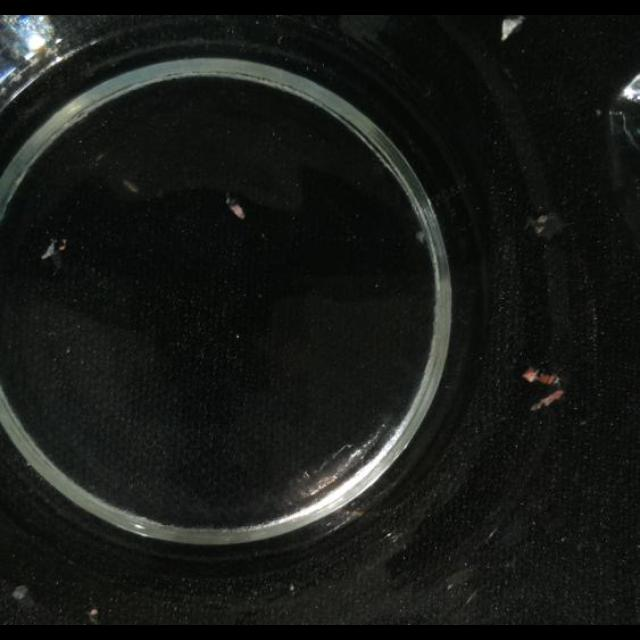Fibre: (41, 238, 68, 264)
Fragment: (518, 360, 572, 414), (524, 366, 558, 386), (225, 196, 248, 222)
